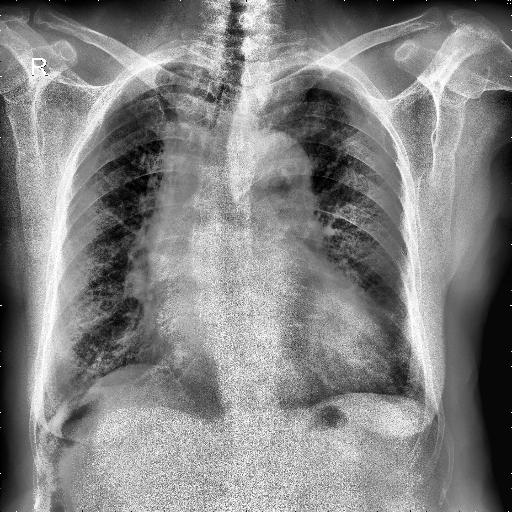0- Aortic enlargement: (230, 126, 314, 232), (240, 128, 312, 230), (238, 128, 312, 216)
3- Cardiomegaly: (142, 278, 395, 394), (146, 302, 400, 396), (145, 312, 391, 401)
9- Other lesion: (40, 398, 99, 507)
